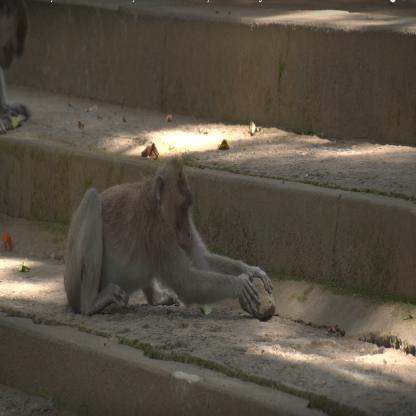monkey: (63, 157, 274, 320)
